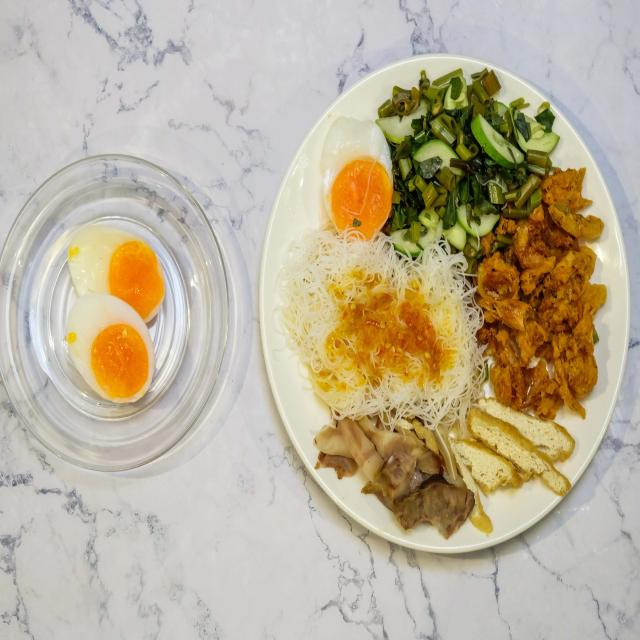Carbohydrate: (276, 224, 486, 421)
Protein: (314, 404, 586, 540), (481, 165, 602, 422), (60, 225, 169, 405)
Taokua: (255, 50, 628, 560)
Vegetable: (376, 66, 558, 245)
